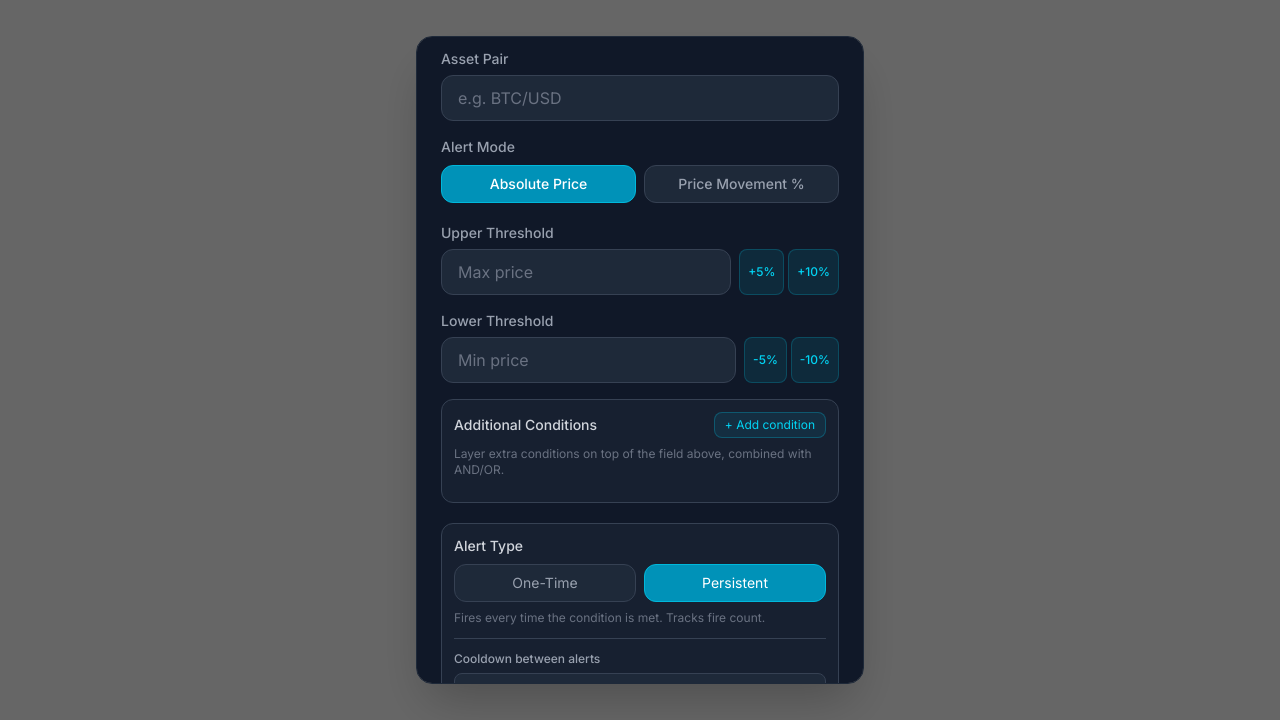
Test case: AlertModal › fills lower threshold from suggestion button
(page scrolled)
Click the button "-5%".
click(765, 360)  # box top-left (744, 336), bottom-right (787, 382)
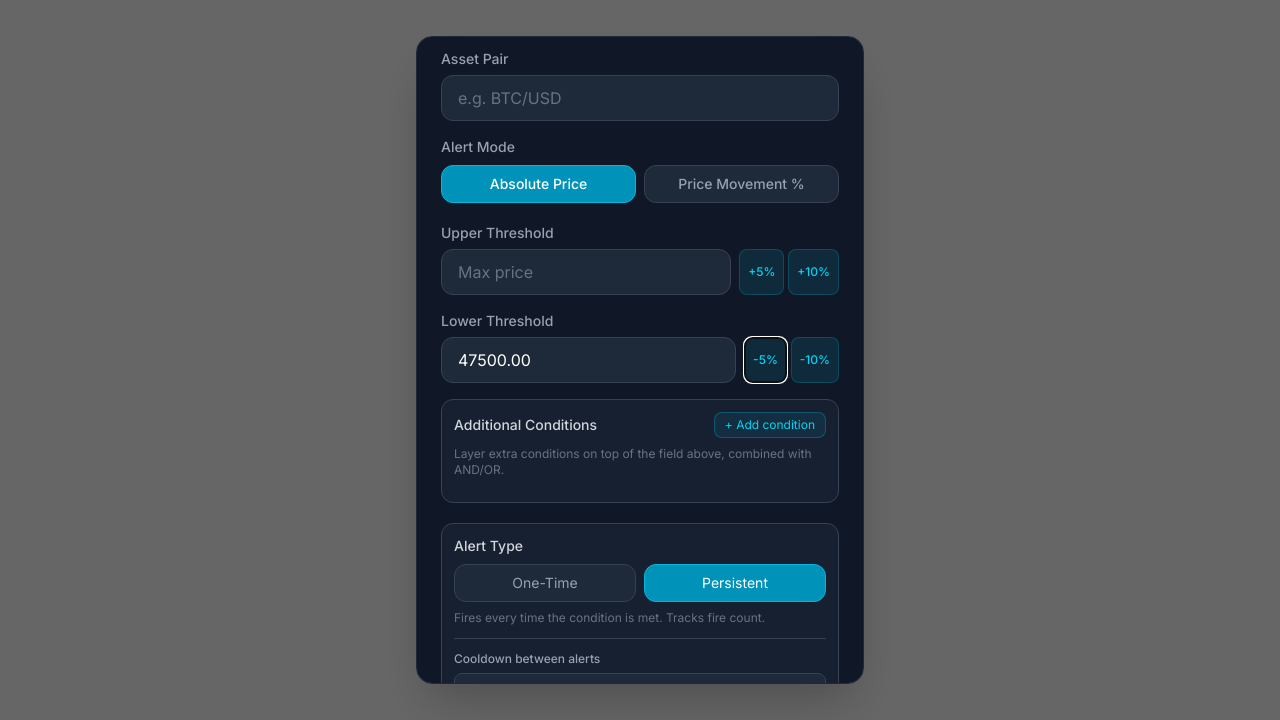
Expected: the number field labelled "Lower Threshold" holds "47500", top-left (441, 336), bottom-right (736, 382)
